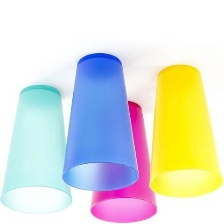glass: (60, 48, 138, 195), (146, 61, 224, 201), (0, 81, 75, 217), (85, 97, 162, 224)
